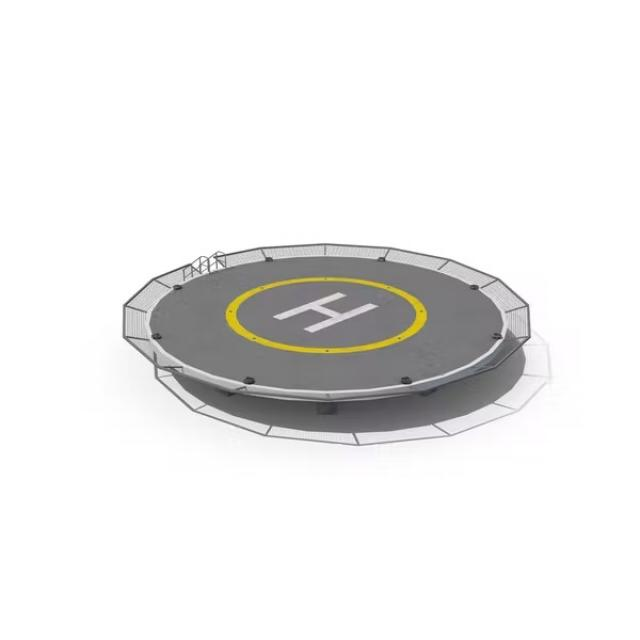helipad: (215, 271, 431, 356)
